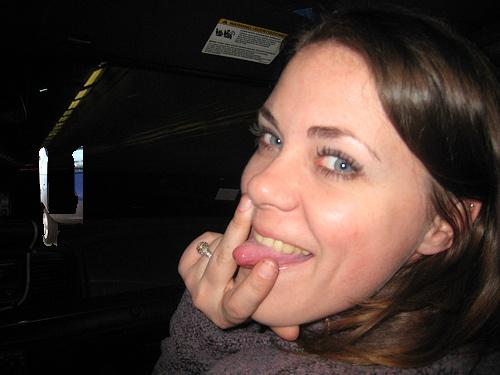tampered: (40, 147, 83, 246)
